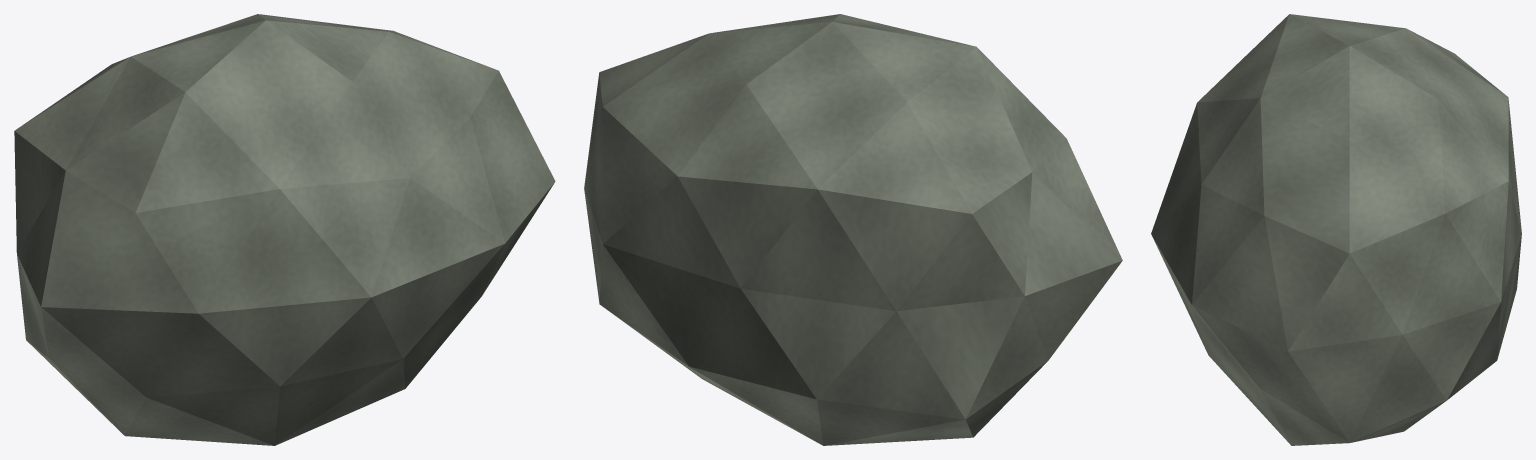
The model's file is rock.glb.
The picture shows the model from 3 angles, left to right: view 1: azimuth 30°, elevation 25°; view 2: azimuth 150°, elevation 25°; view 3: azimuth 270°, elevation 25°; orthographic projection. The views are drawn at different scales.
Parts seen in each view (by area): view 1: weathered-rock; view 2: weathered-rock; view 3: weathered-rock.
Boxes of the visible parts, x1,y1,x2,y2 form: weathered-rock: (14,14,555,445); weathered-rock: (584,14,1122,445); weathered-rock: (1151,14,1521,445).
Size of the model in its own units: 2.56 by 1.9 by 1.7.
1 material, 1 textured.
